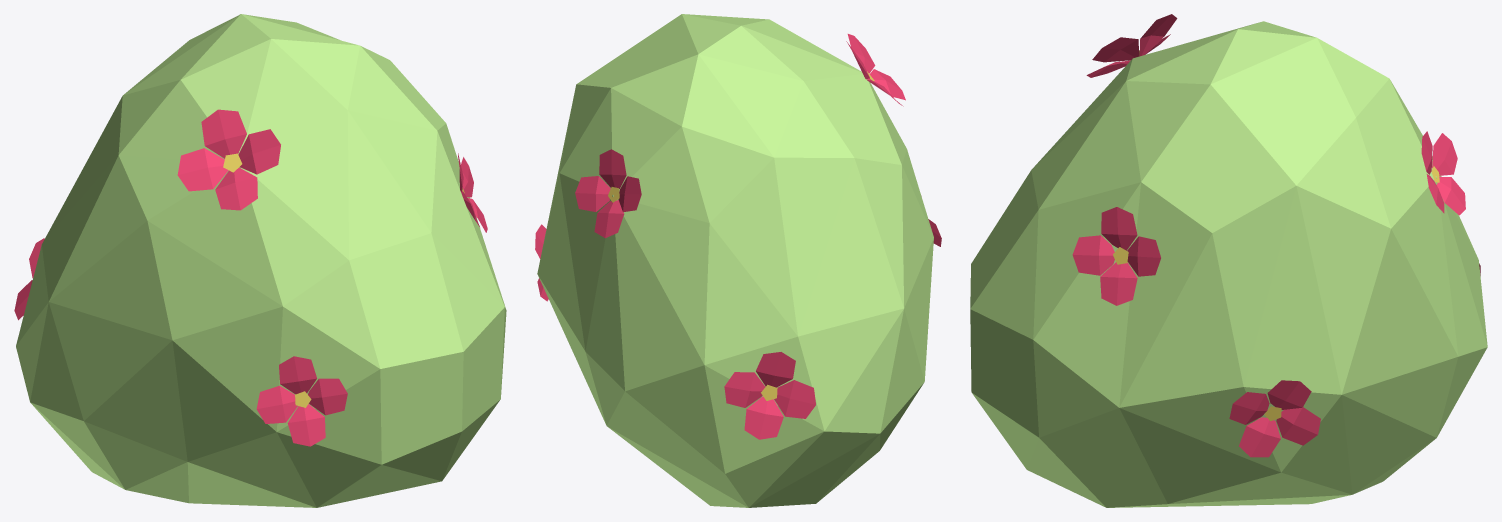
File: FlowerBush_f_m_04.fbx
3 renders of one model, left to right at view 1: azimuth 30°, elevation 25°; view 2: azimuth 150°, elevation 25°; view 3: azimuth 270°, elevation 25°, orthographic. The views are drawn at different scales.
Visible parts, largest first — view 1: FlowerBush_f_m_04; view 2: FlowerBush_f_m_04; view 3: FlowerBush_f_m_04.
Boxes of the visible parts, bbox=[...] form: FlowerBush_f_m_04: bbox=[14, 14, 506, 507]; FlowerBush_f_m_04: bbox=[535, 14, 941, 507]; FlowerBush_f_m_04: bbox=[970, 14, 1487, 507].
Bounding box in the file's own units: 154 × 170 × 167.
